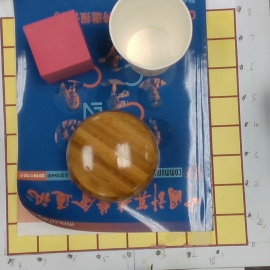chess: (64, 110, 157, 204)
cup: (108, 2, 192, 79)
